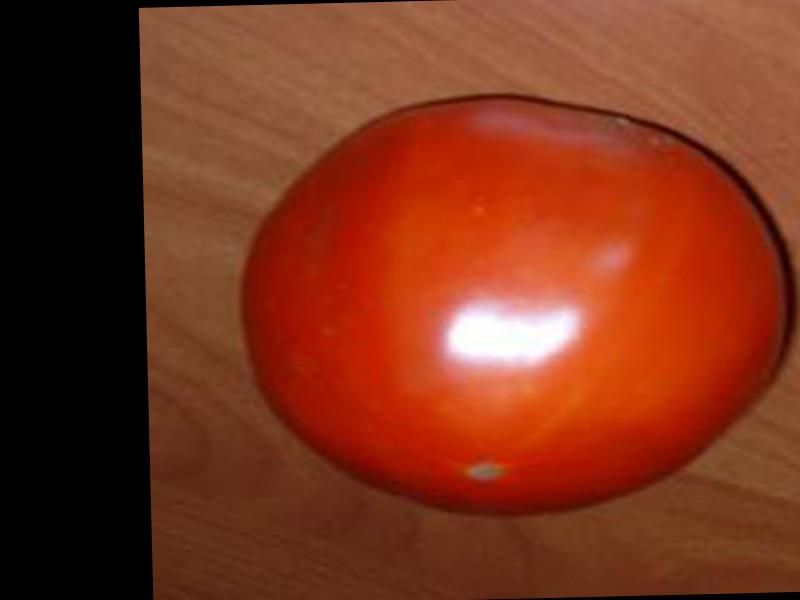Tomato: (230, 91, 800, 525)
